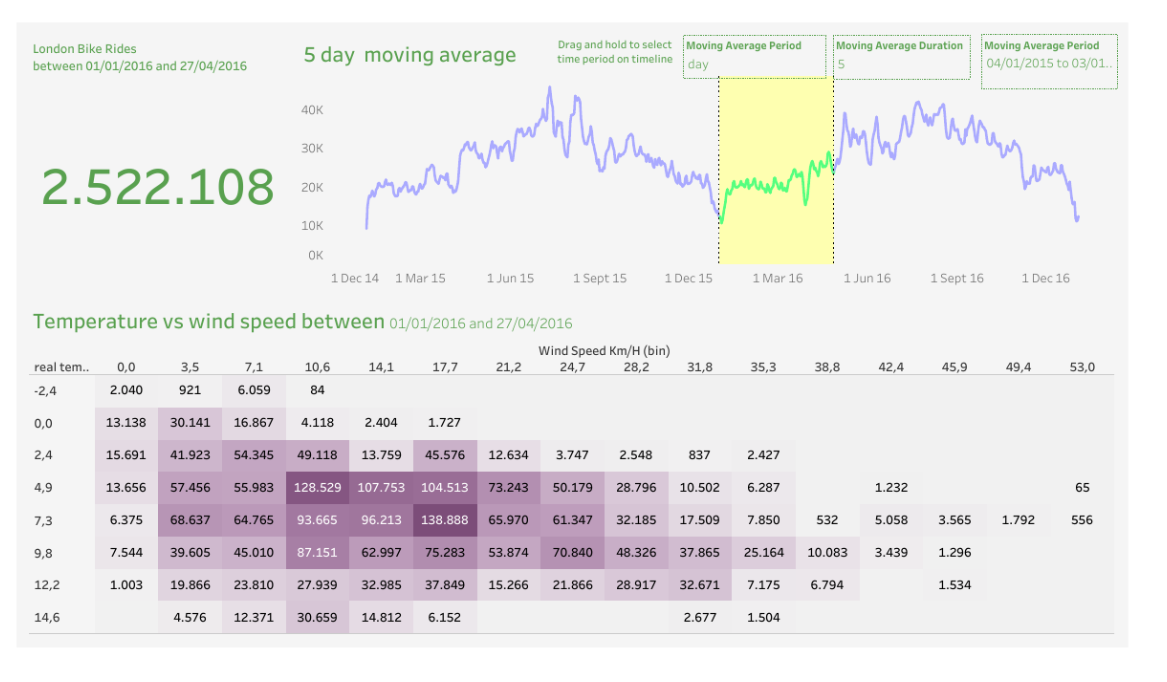

Layout of this report page (visuals, bound fields, positions):
{"tool":"tableau","page":{"name":"Dashboard 1","canvas":[1366,768],"ordinal":0},"visuals":[{"type":"worksheet","title":"TotalRides","mark":"Automatic","box":[8,8,333,327]},{"type":"worksheet","title":"MovingAverage","mark":"Automatic","rows":["Calculation_0558045820956674"],"cols":["Calculation_0544301906456578"],"box":[341,8,1017,327]},{"type":"filter","title":"MovingAverage","param":"[federated.0j1wv3a1vyclg312tibfn0kq5nvj].[none:Calculation_0544301906456578:qk]","box":[1185,14,168,68]},{"type":"text","box":[650,15,171,42]},{"type":"parameter","param":"[Parameters].[Parameter 0544301905965056]","box":[819,15,176,54]},{"type":"parameter","param":"[Parameters].[Parameter 0544301906145281]","box":[1003,15,169,55]},{"type":"worksheet","title":"Heatmap","mark":"Square","rows":["real temperature in C (bin)"],"cols":["Wind Speed Km/H (bin)"],"box":[8,335,1350,425]}]}

Visuals, with their boxes on the page's 1366x768 design canvas (x1, y1, x2, y2). These are canvas units, not pixel positions in the 1167x682 screenshot, which may show the page scaled, cropped or inside an application window:
"TotalRides" worksheet: 8:8:341:335
"MovingAverage" worksheet: 341:8:1358:335
"MovingAverage" filter: 1185:14:1353:82
text: 650:15:821:57
parameter: 819:15:995:69
parameter: 1003:15:1172:70
"Heatmap" worksheet (Square marks): 8:335:1358:760
